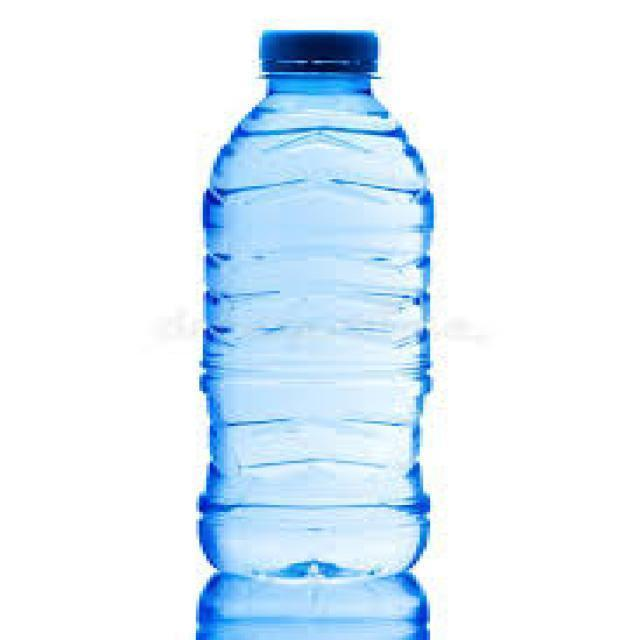Plastic: (206, 31, 434, 584)
